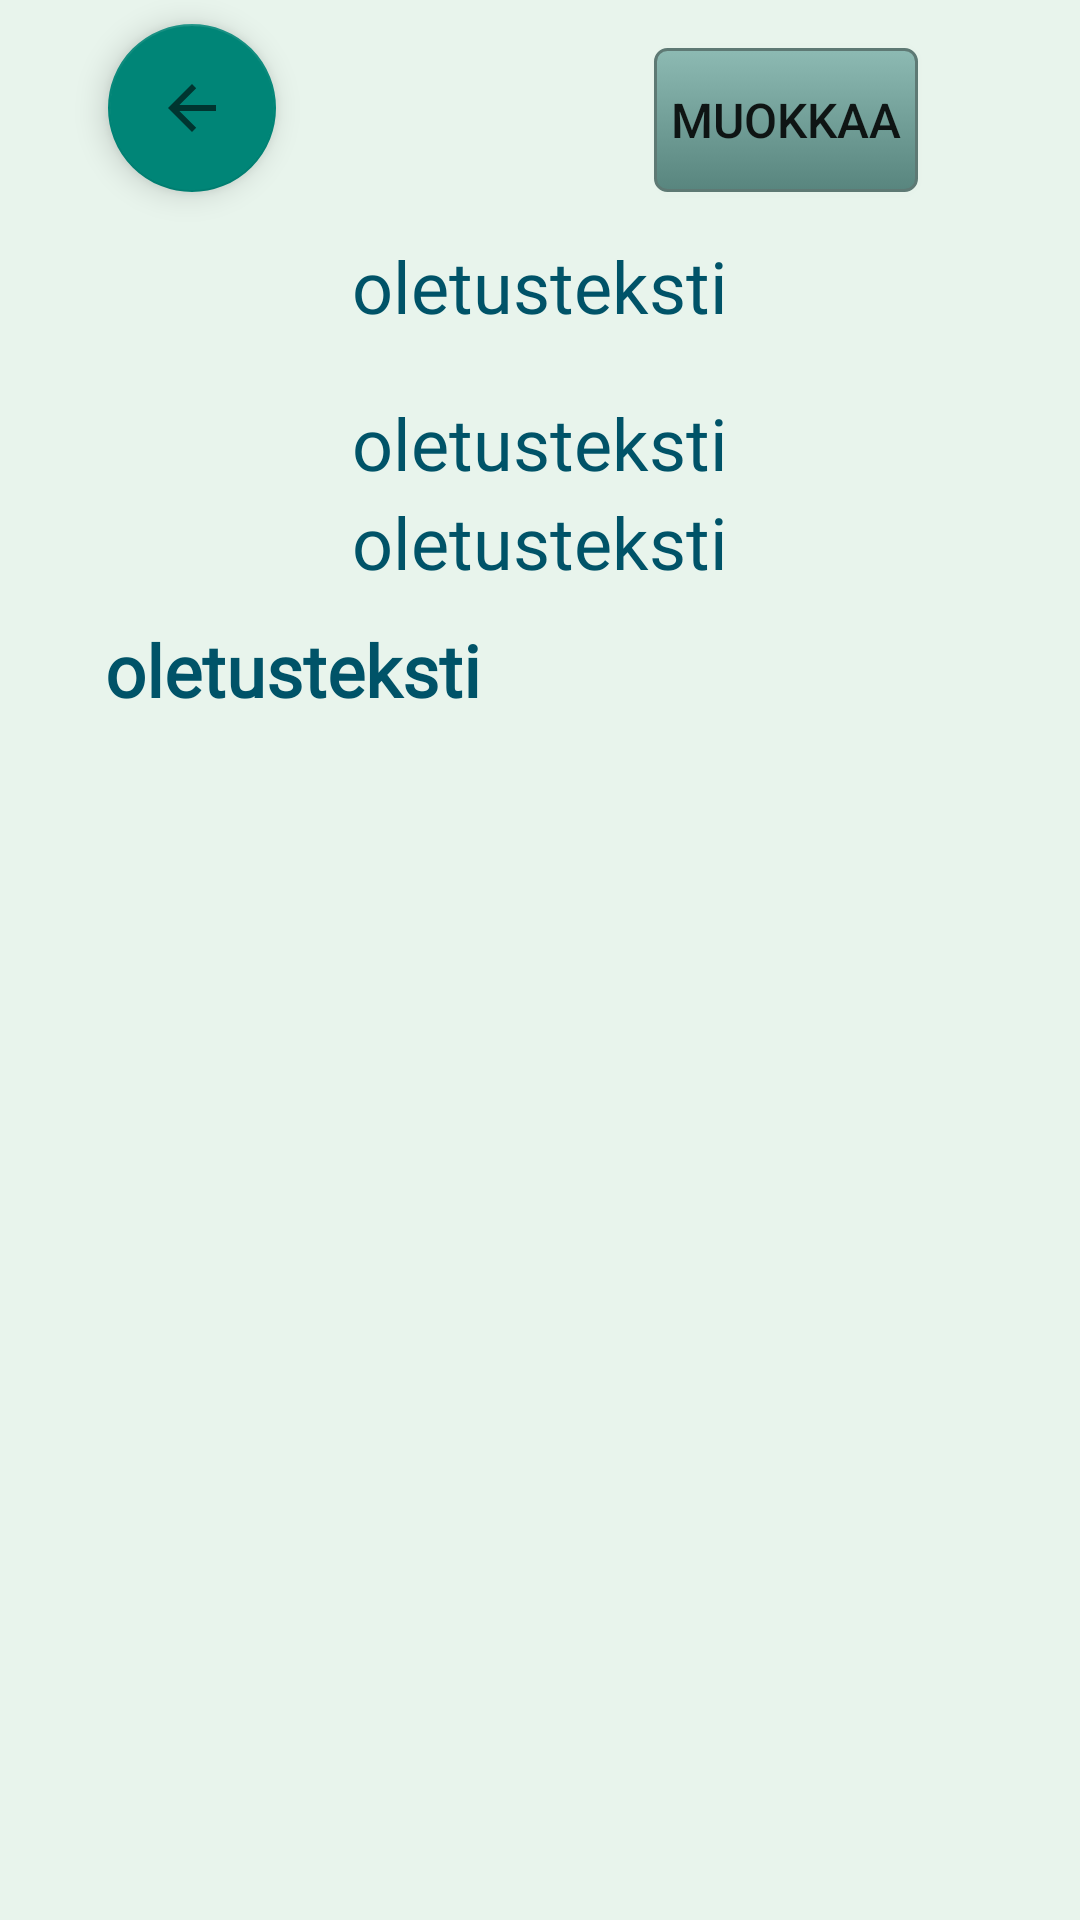

Icon click points for this 1080w x 1920h phone screenshot, format (x,y):
Nappi, joka vie takaisin päiväkirjaan: (192,108)
